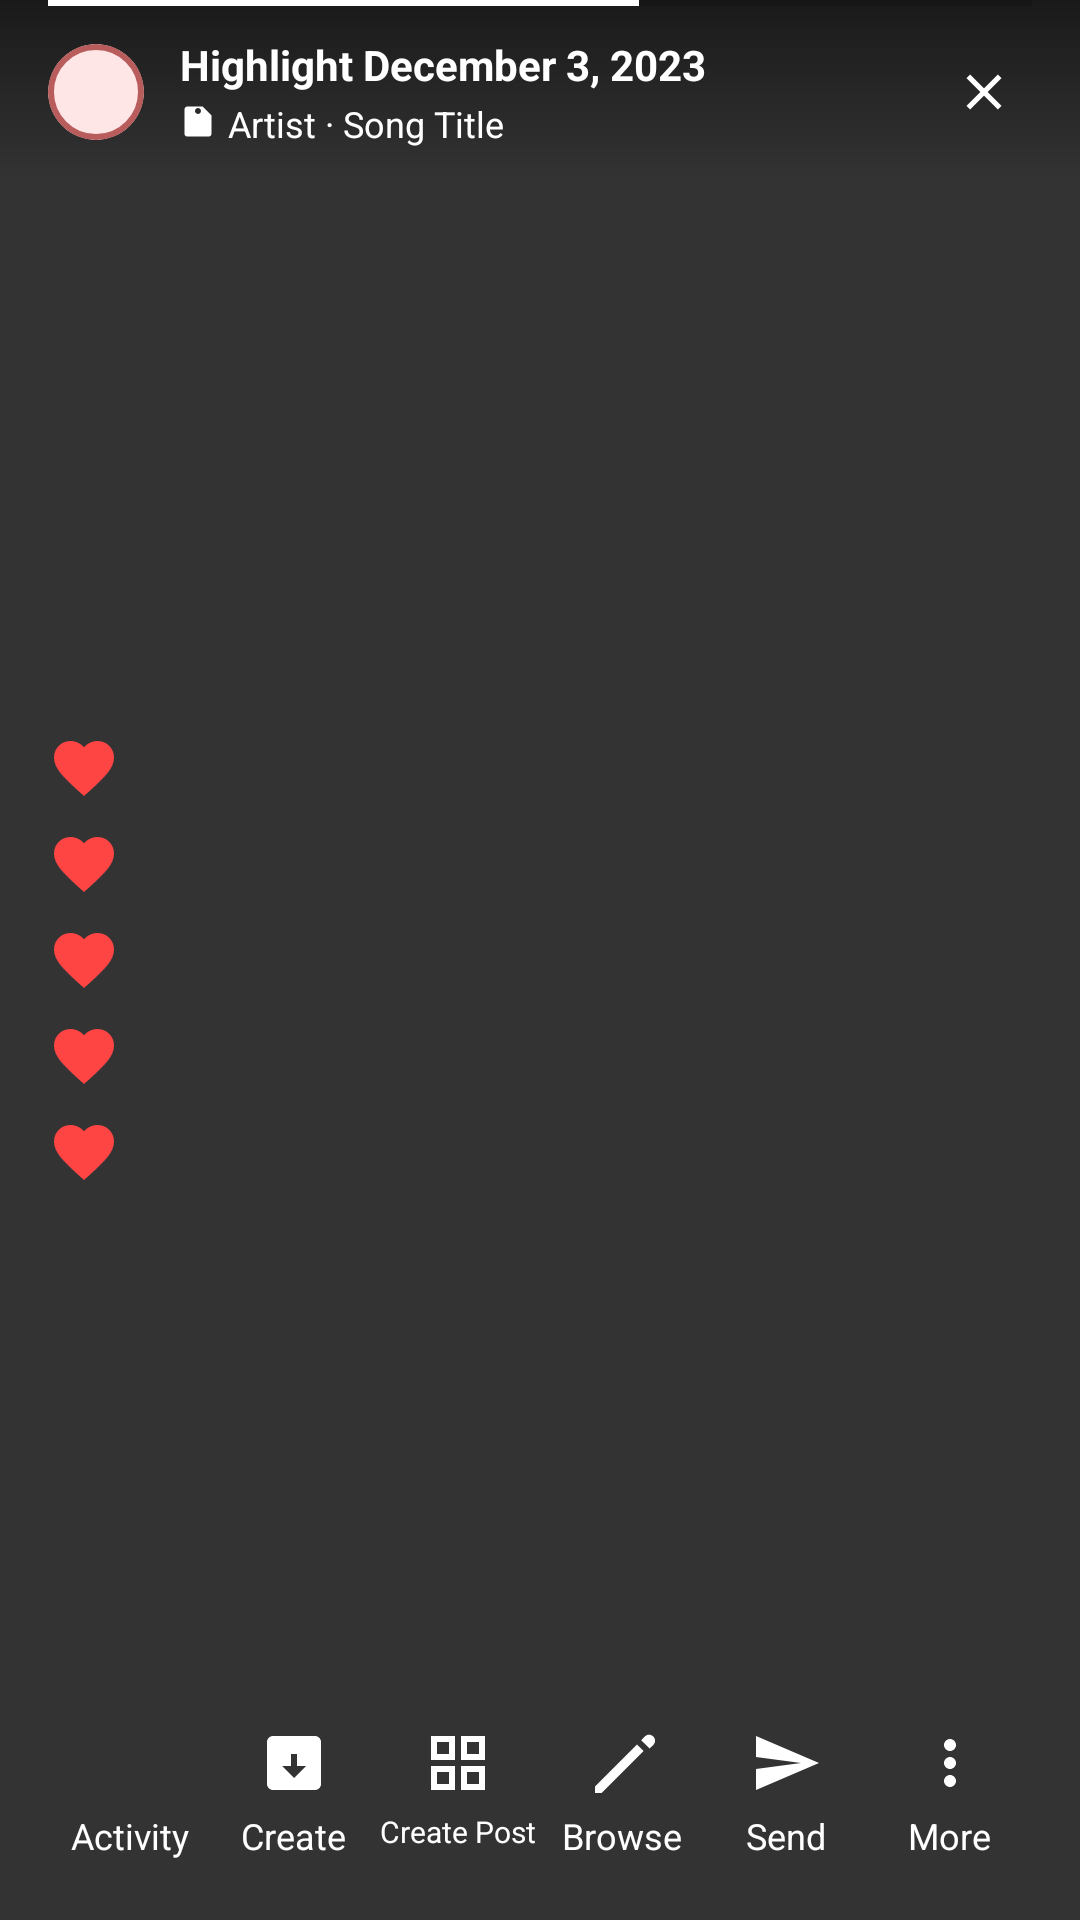

Where icons sit on this 1080 x 1920 app screen, as BBox(x1, y1, x2, y2):
close: BBox(966, 74, 1002, 110)
grid: BBox(431, 1736, 485, 1790)
heart: BBox(54, 741, 114, 796), BBox(54, 837, 114, 892), BBox(54, 933, 114, 988), BBox(54, 1029, 114, 1084), BBox(54, 1125, 114, 1180)
